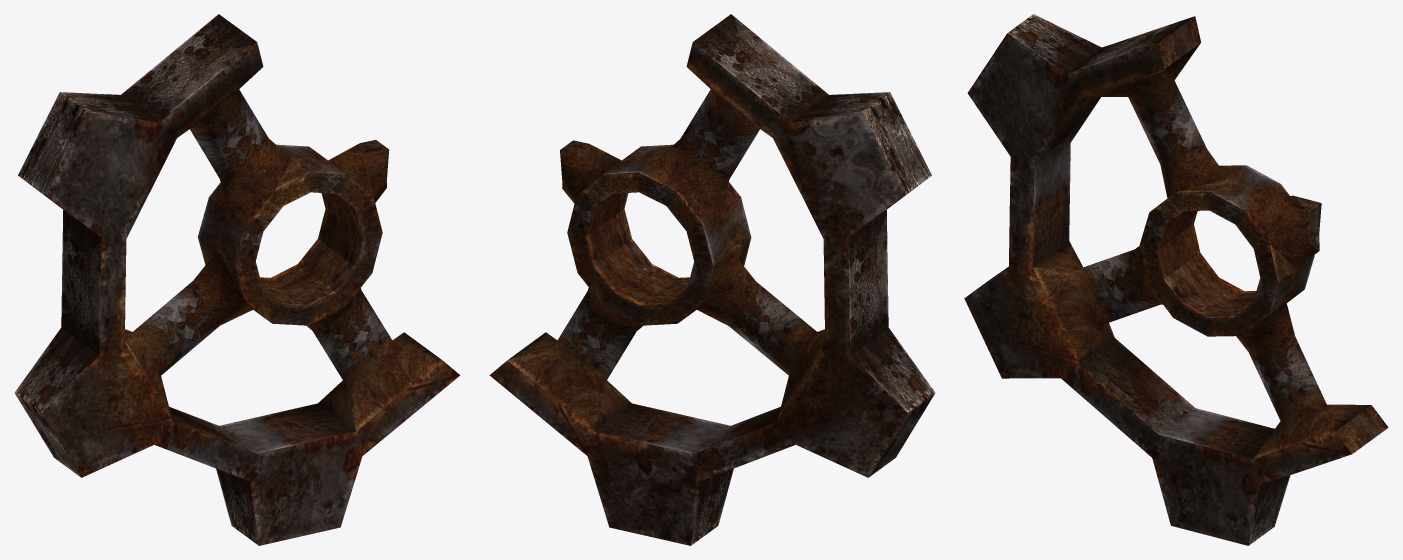
Rendered from cogwheel_small_broken01.dae.
The picture shows the model from 3 angles, left to right: view 1: azimuth 30°, elevation 25°; view 2: azimuth 150°, elevation 25°; view 3: azimuth 330°, elevation 25°; orthographic projection. The views are drawn at different scales.
Parts seen in each view (by area): view 1: polySurface13; view 2: polySurface13; view 3: polySurface13.
Part boxes in pixels (left/top/right/bottom): polySurface13: left=14, top=14, right=460, bottom=545; polySurface13: left=489, top=14, right=935, bottom=545; polySurface13: left=964, top=14, right=1388, bottom=545.
Bounding box in the file's own units: 1.32 × 1.56 × 0.2142.
